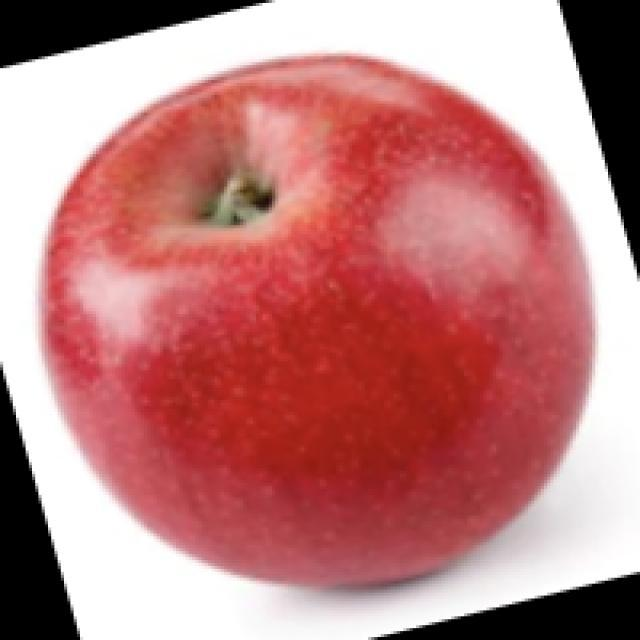Fresh Apple: (45, 56, 595, 592)
